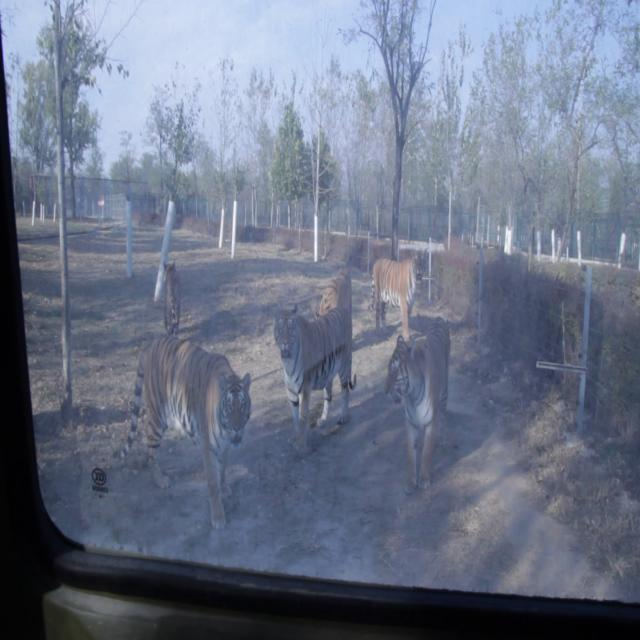Tiger: (108, 328, 267, 538), (382, 312, 455, 494), (271, 297, 363, 416), (370, 248, 430, 332), (317, 260, 358, 318), (155, 260, 184, 338)
